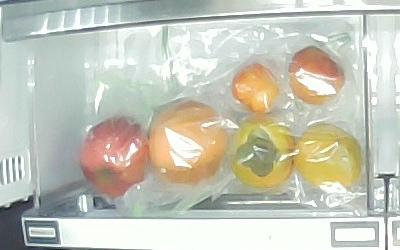apple_vinyl: (79, 117, 151, 198)
grapefruit_vinyl: (149, 99, 227, 186)
persimmon_vinyl: (294, 124, 363, 192), (227, 119, 294, 189)
prune_vinyl: (289, 46, 346, 107), (230, 62, 279, 115)
